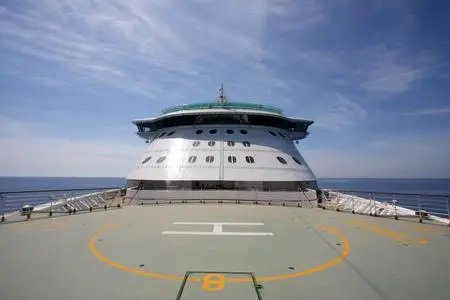Apron: (89, 206, 349, 281)
